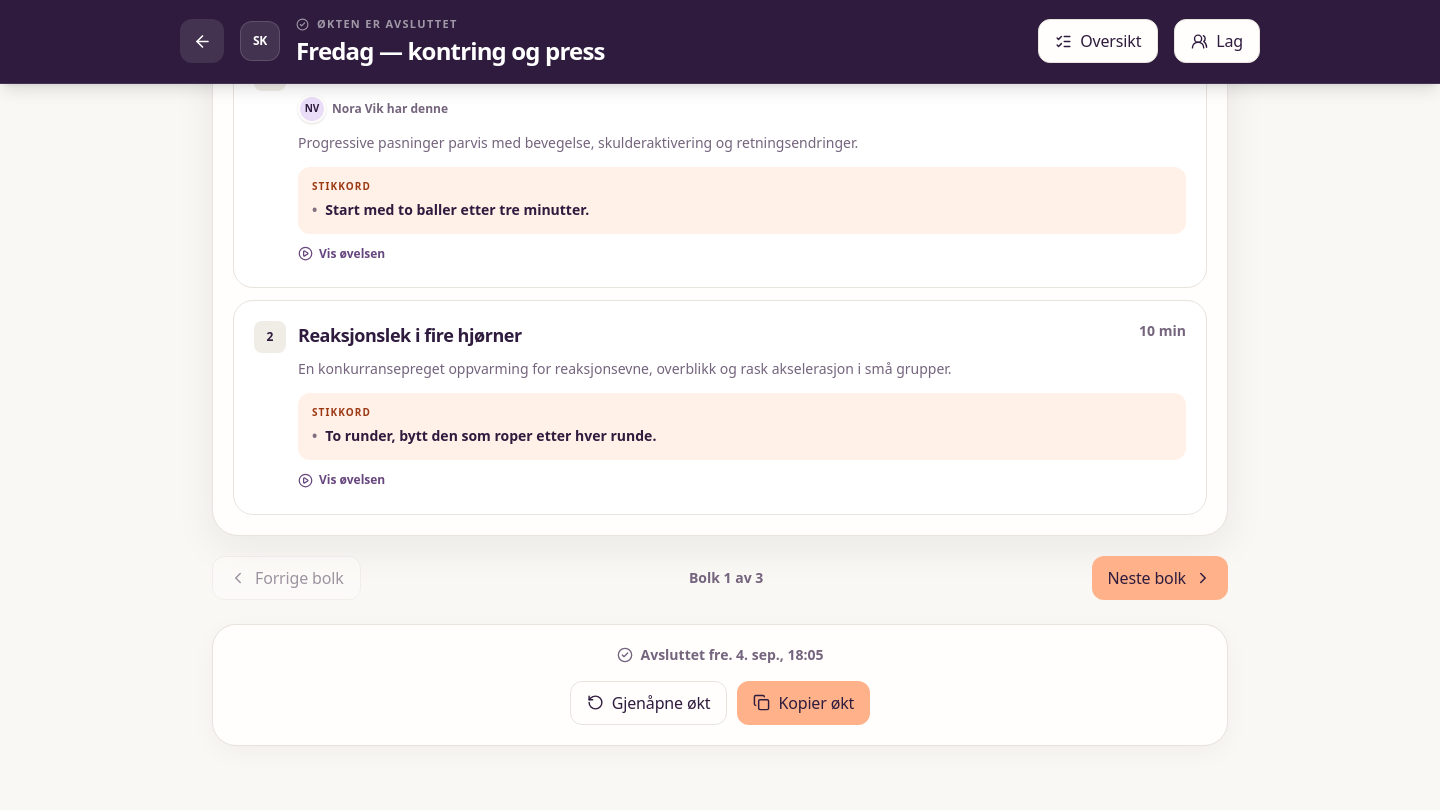
a finished workout › reopens the plan after confirming, and says where it lands
(page scrolled)
Click the button "Gjenåpne økt" at point(649, 702), box [570,680,728,724]
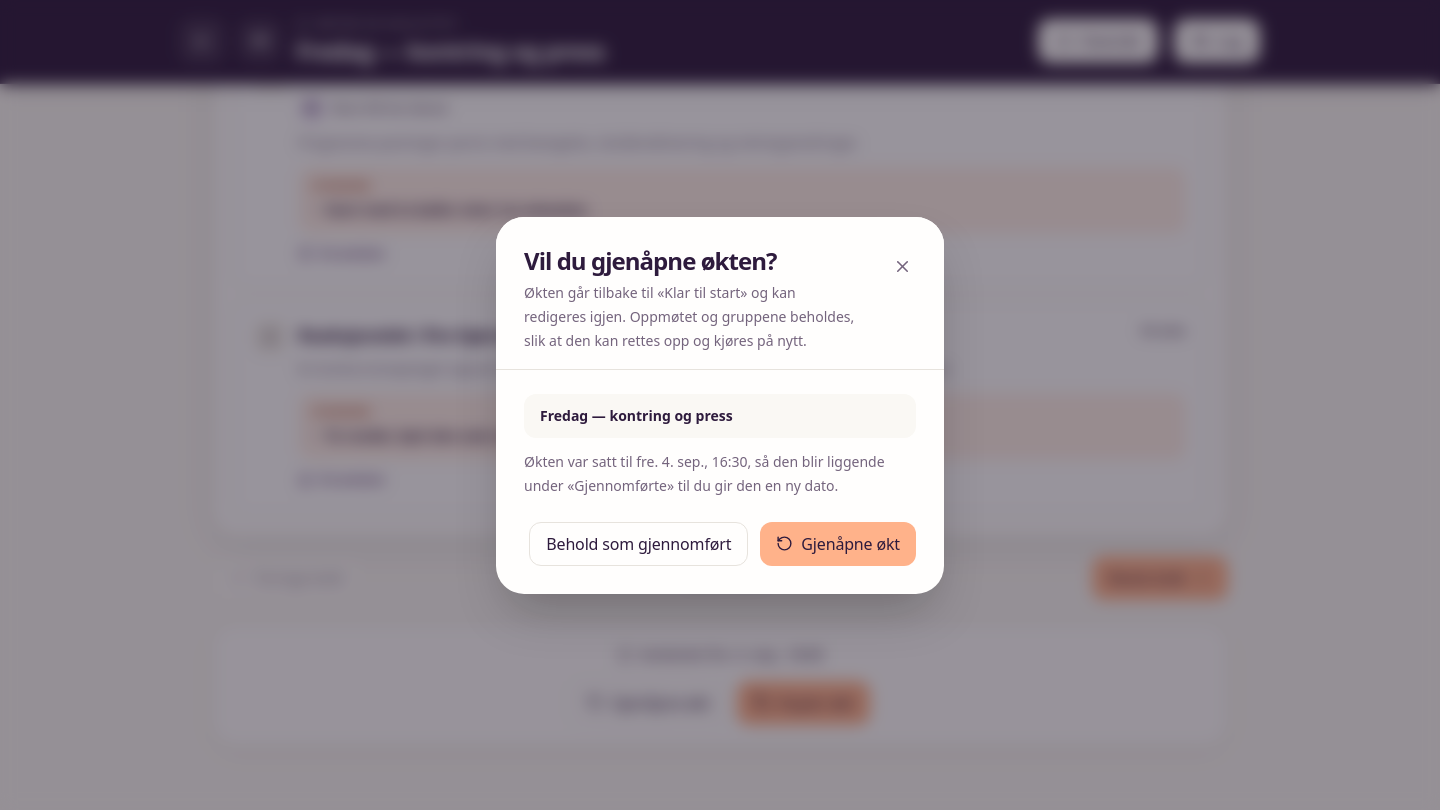
Expected: the text "Oppmøtet og gruppene beholdes" is shown, [524,282,854,350]
Expected: the text "blir liggende under «Gjennomførte»" is shown, [524,452,885,494]
Click the button "Gjenåpne økt" at point(838, 544), box [760,522,916,566]
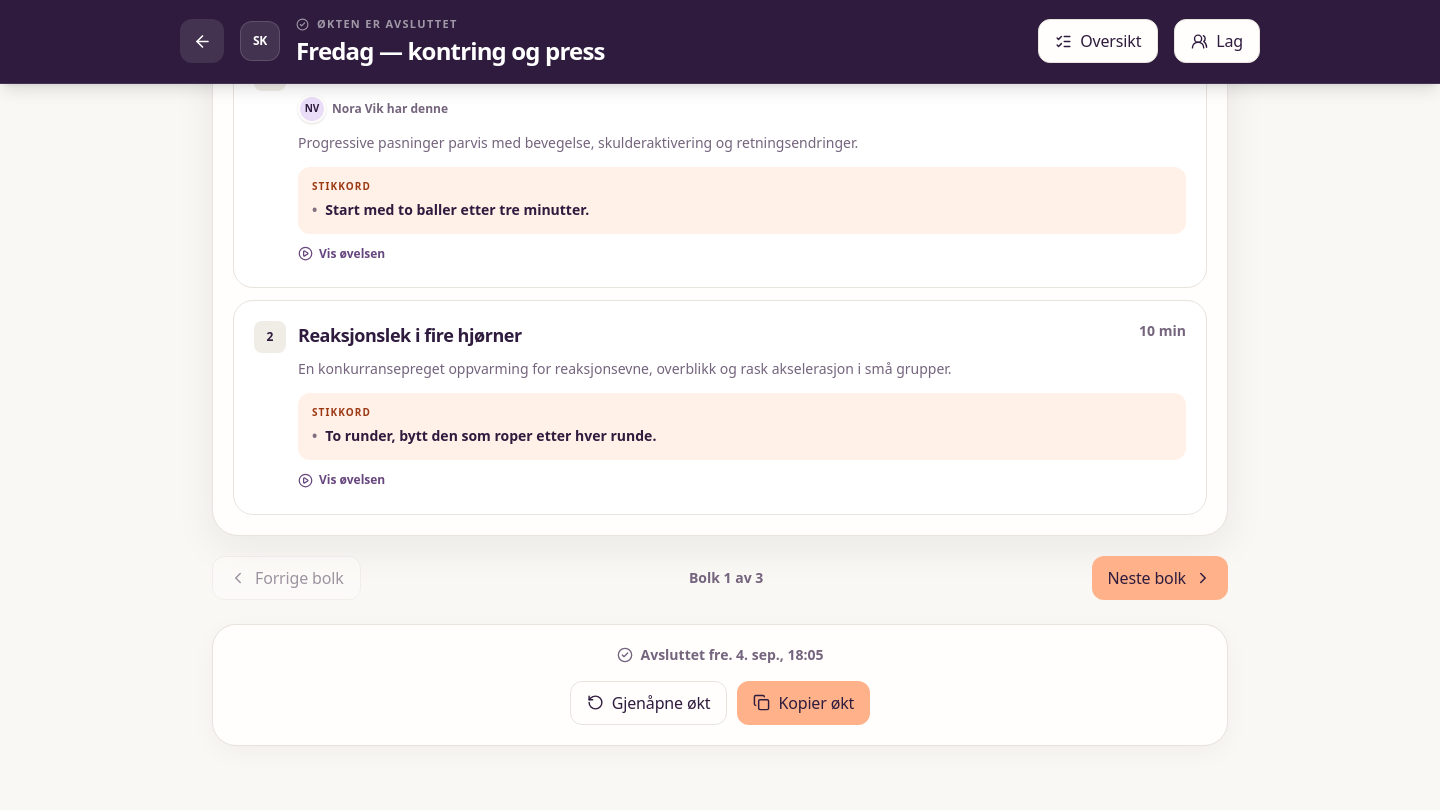
Expected: the heading "Vil du gjenåpne økten?" is gone
